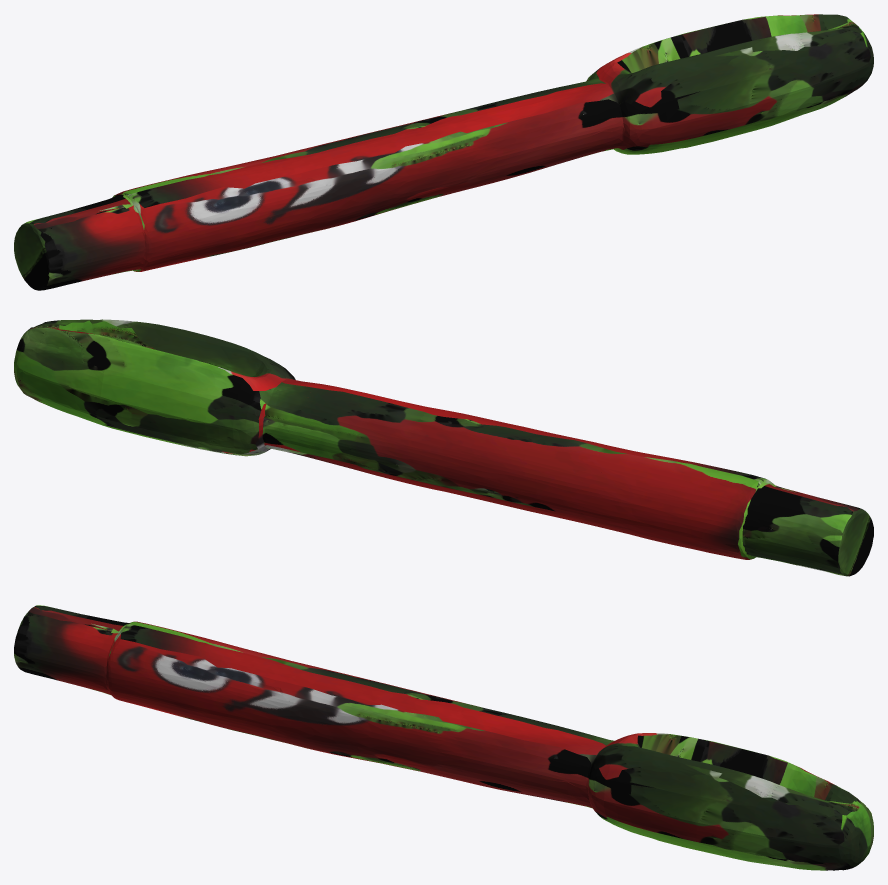
File: sample.obj
3 views of the same model, one above another, from view 1: azimuth 30°, elevation 25°; view 2: azimuth 150°, elevation 25°; view 3: azimuth 330°, elevation 25° (orthographic). The views are drawn at different scales.
Size of the model in its own units: 0.2049 by 0.0215 by 0.0232.
